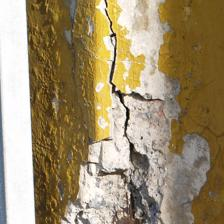Crack: (33, 26, 103, 135), (0, 0, 102, 71)
